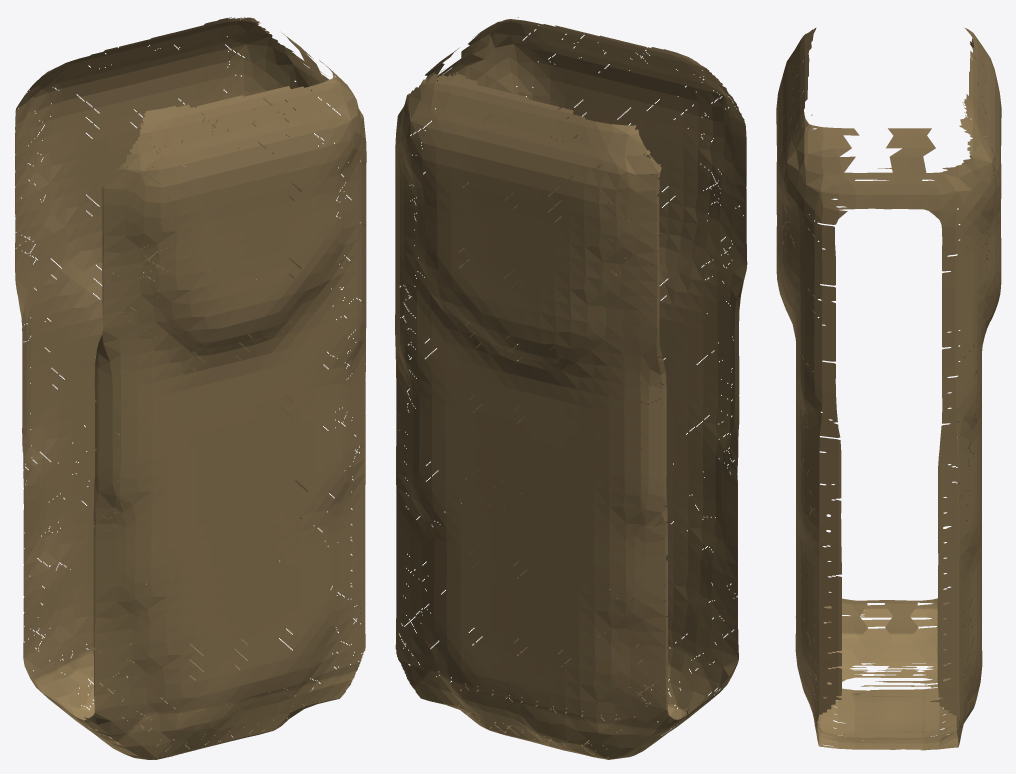
The picture shows the model from 3 angles, left to right: view 1: azimuth 30°, elevation 25°; view 2: azimuth 150°, elevation 25°; view 3: azimuth 270°, elevation 25°; orthographic projection.
Parts seen in each view (by area): view 1: reconstruction; view 2: reconstruction; view 3: reconstruction.
Part boxes in pixels (bbox=[...]): reconstruction: bbox=[15, 17, 366, 759]; reconstruction: bbox=[395, 17, 747, 759]; reconstruction: bbox=[776, 28, 1001, 750].
Bounding box in the file's own units: 0.447 × 1 × 0.3087.
Materials: 1 (1 with a texture image).
